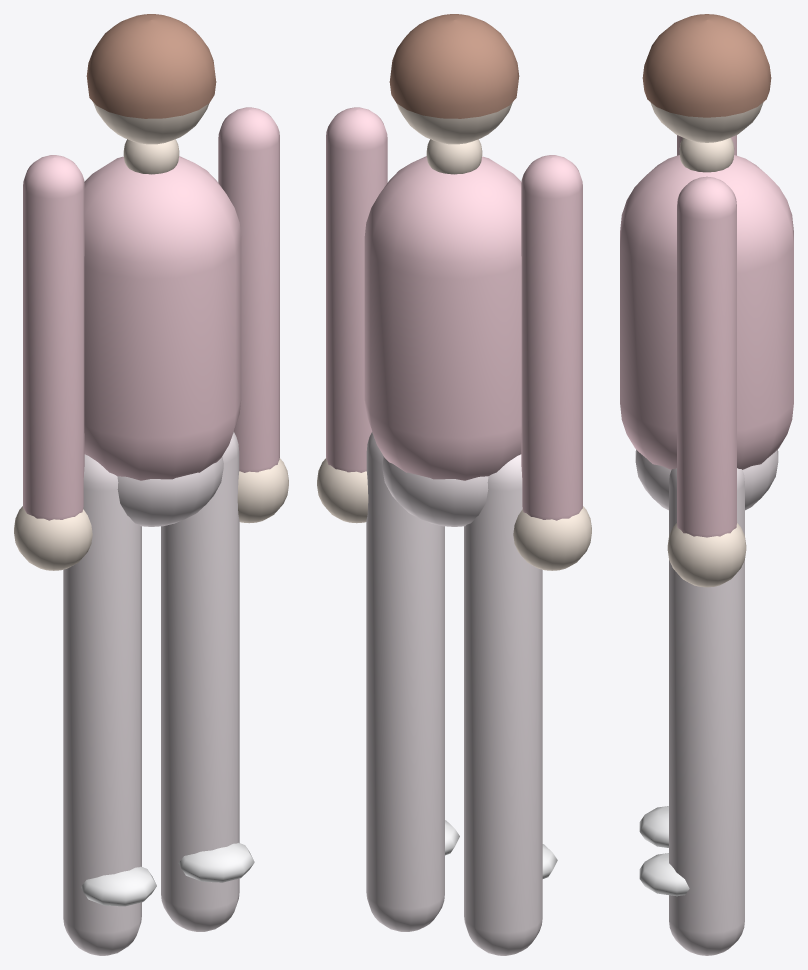
The model's file is child_girl_8.glb.
The picture shows the model from 3 angles, left to right: view 1: azimuth 30°, elevation 25°; view 2: azimuth 150°, elevation 25°; view 3: azimuth 270°, elevation 25°; orthographic projection.
Visible parts, largest first — view 1: torso, leg_l, leg_r, arm_l, arm_r, hair, hips, hand_l, hand_r, head, shoe_r, shoe_l (+1 smaller); view 2: torso, leg_l, leg_r, arm_l, arm_r, hair, hips, hand_l, hand_r, head, neck; view 3: torso, leg_r, arm_r, hair, hand_r, hips, head, neck, shoe_r, shoe_l.
Boxes of the visible parts, left/top/right/bottom form: torso: left=84, top=156, right=241, bottom=480; leg_l: left=63, top=454, right=141, bottom=955; leg_r: left=161, top=432, right=239, bottom=931; arm_l: left=23, top=155, right=84, bottom=520; arm_r: left=218, top=107, right=279, bottom=472; hair: left=86, top=14, right=216, bottom=118; hips: left=117, top=456, right=223, bottom=526; hand_l: left=14, top=506, right=92, bottom=570; hand_r: left=237, top=458, right=288, bottom=523; head: left=93, top=102, right=209, bottom=144; shoe_r: left=178, top=842, right=254, bottom=882; shoe_l: left=81, top=866, right=156, bottom=906; torso: left=364, top=156, right=521, bottom=480; leg_l: left=464, top=454, right=542, bottom=955; leg_r: left=366, top=432, right=444, bottom=931; arm_l: left=521, top=155, right=582, bottom=520; arm_r: left=326, top=107, right=387, bottom=472; hair: left=389, top=14, right=519, bottom=118; hips: left=382, top=456, right=488, bottom=526; hand_l: left=513, top=506, right=591, bottom=570; hand_r: left=317, top=458, right=368, bottom=523; head: left=396, top=102, right=512, bottom=144; neck: left=426, top=139, right=482, bottom=174; torso: left=620, top=155, right=793, bottom=469; leg_r: left=669, top=468, right=744, bottom=955; arm_r: left=677, top=176, right=736, bottom=537; hair: left=642, top=14, right=771, bottom=117; hand_r: left=667, top=523, right=746, bottom=587; hips: left=635, top=449, right=778, bottom=510; head: left=650, top=102, right=763, bottom=142; neck: left=679, top=137, right=734, bottom=172; shoe_r: left=639, top=853, right=689, bottom=896; shoe_l: left=639, top=806, right=668, bottom=847.
Size of the model in its own units: 0.4018 by 1.33 by 0.2309.
